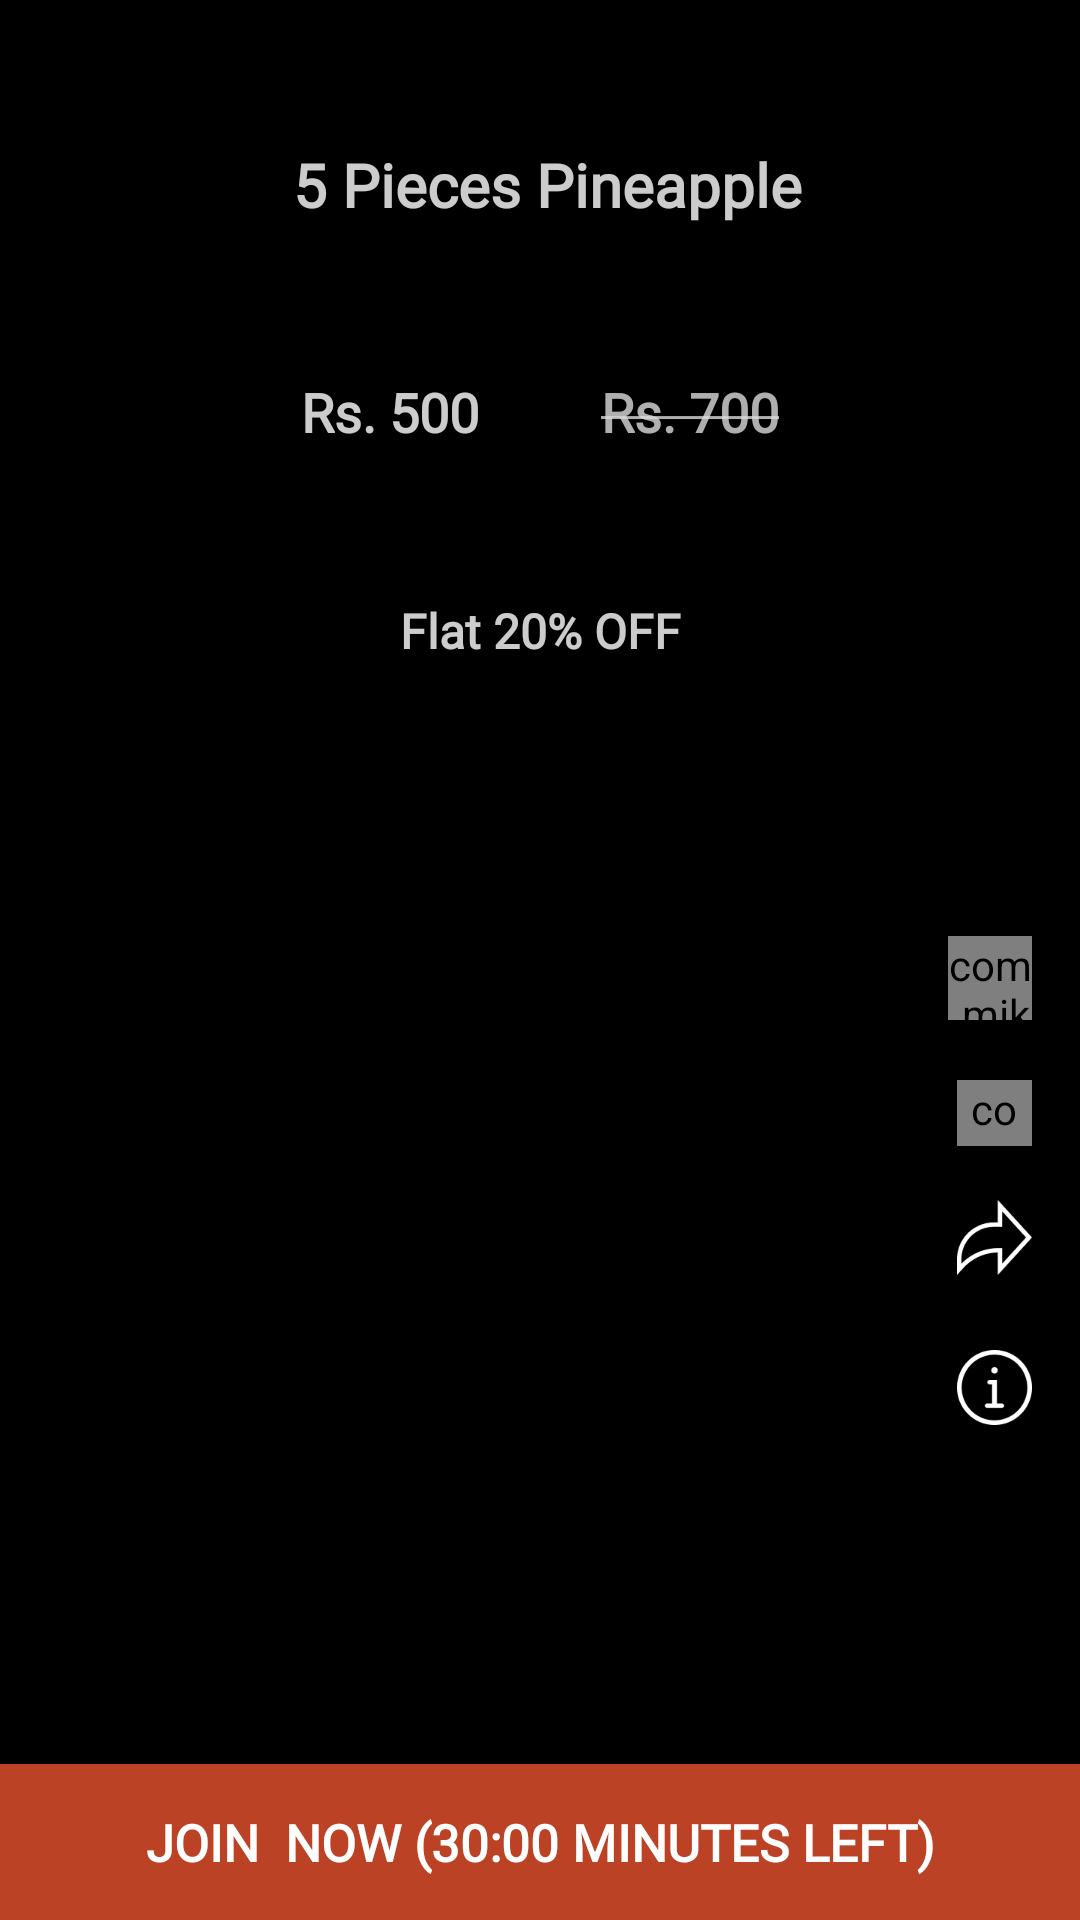

Where to tap for icons on this 1080x1920 app screen, as (x,y):
info: (994,1387)
share: (994,1237)
